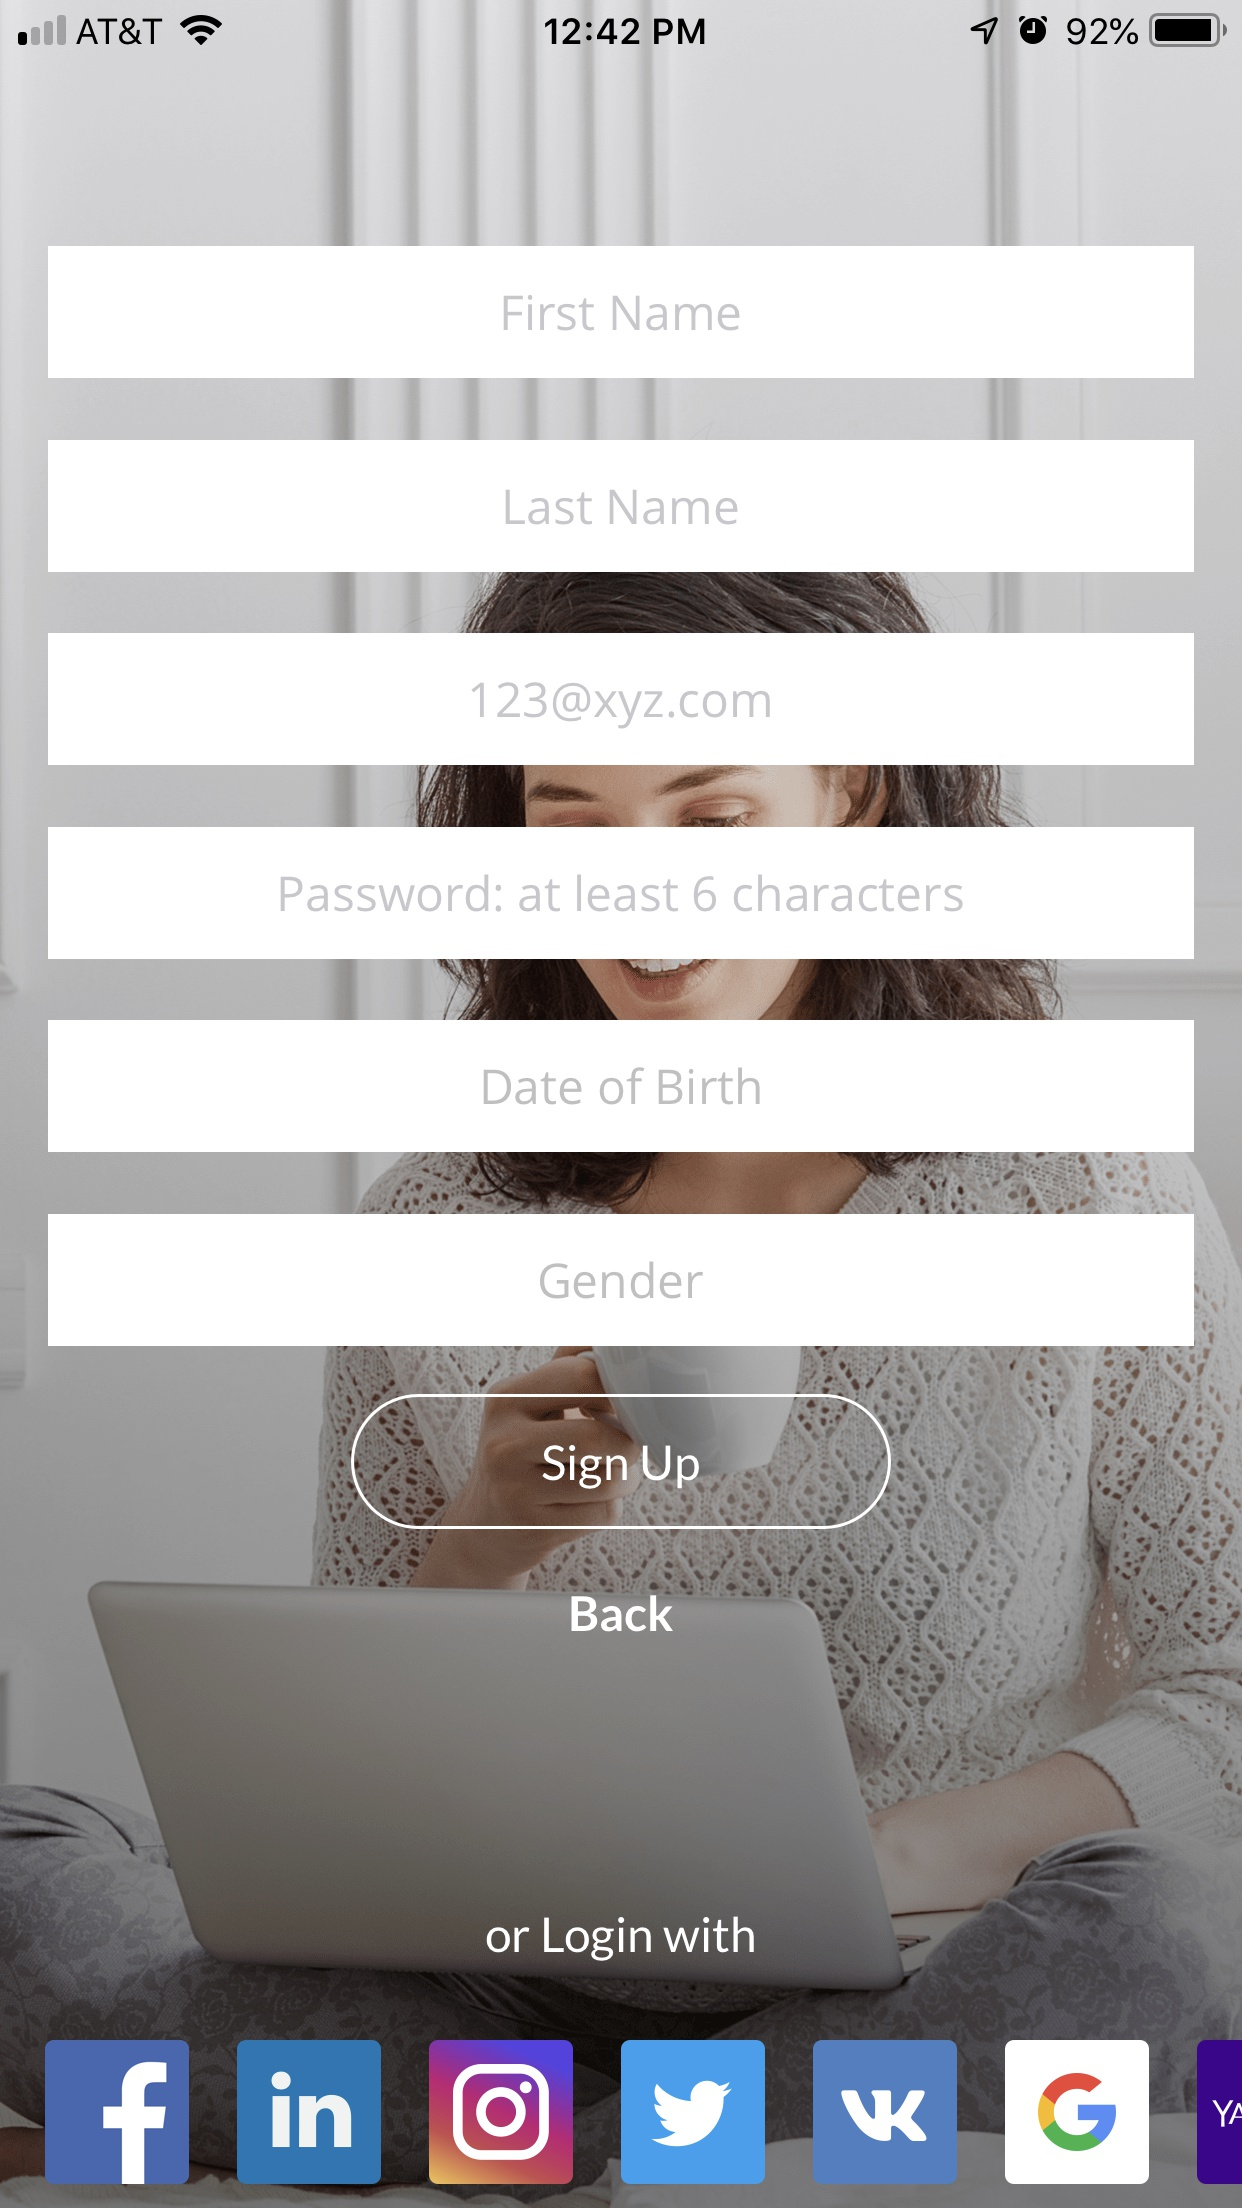BackgroundImage: (2, 2, 1242, 2208)
EditText: (49, 440, 1195, 575), (49, 246, 1195, 381), (49, 826, 1195, 960), (49, 632, 1195, 766), (49, 1215, 1195, 1347), (49, 1021, 1195, 1153)
Icon: (622, 2040, 766, 2185), (1005, 2040, 1149, 2185), (45, 2040, 190, 2184)
Image: (811, 2040, 958, 2185), (429, 2040, 575, 2185), (237, 2040, 382, 2184), (1197, 2040, 1242, 2185)
Text: (281, 873, 964, 913), (470, 681, 772, 729), (485, 1915, 757, 1962), (482, 1068, 760, 1106), (503, 296, 742, 334), (503, 490, 739, 526), (538, 1262, 705, 1300), (570, 1594, 673, 1633)
TextButton: (350, 1394, 892, 1530)
UpperTaskBar: (2, 2, 1242, 49)
